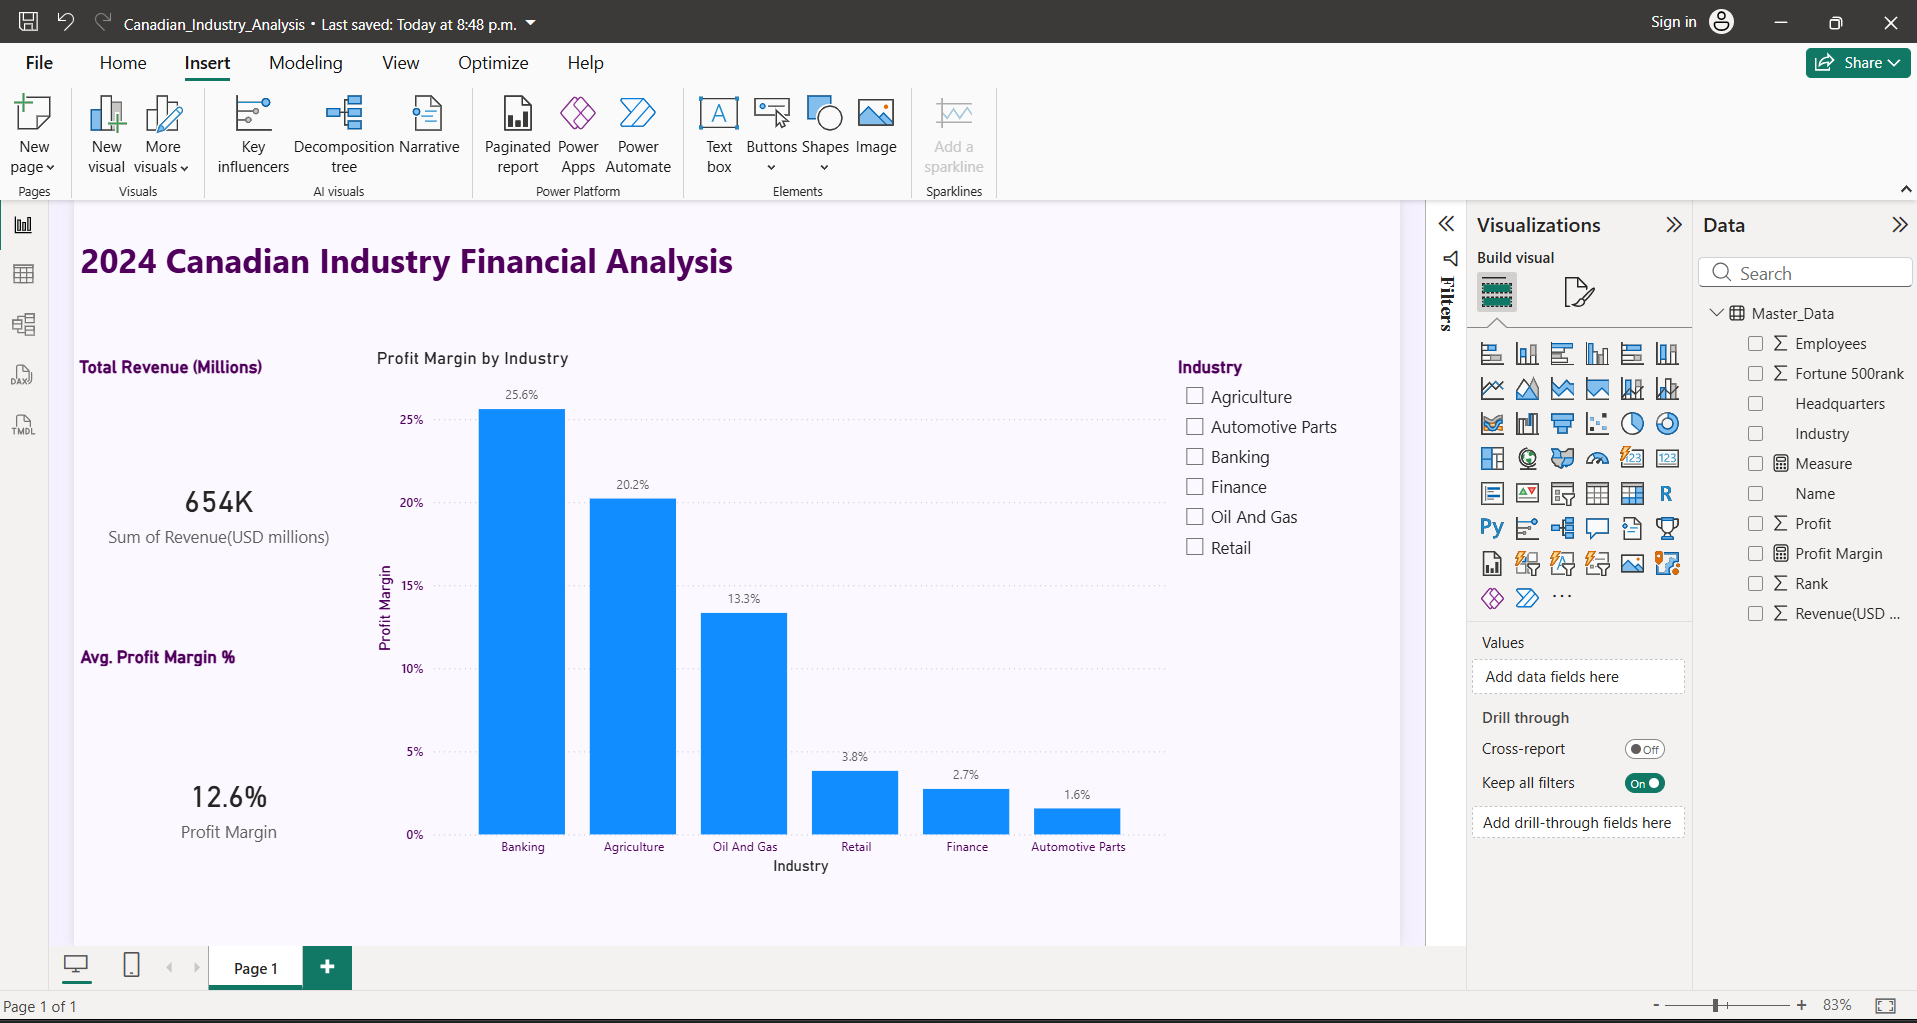

This screenshot's page, from the dashboard's own definition file:
{"tool":"powerbi","page":{"name":"Page 1","canvas":[1280,720],"ordinal":0},"visuals":[{"type":"card","title":"Total Revenue (Millions)","fields":{"Values":["Sum(Master_Data.Revenue(USD millions))"]},"box":[0,150.8,279.9,279.9],"z":1000},{"type":"card","title":"Avg. Profit Margin %","fields":{"Values":["Master_Data.Profit Margin"]},"box":[1.2,430.7,296.8,289.5],"z":2000},{"type":"clusteredColumnChart","fields":{"Category":["Master_Data.Industry"],"Y":["Master_Data.Profit Margin"]},"box":[287.1,142.4,773.3,513.9],"z":3000},{"type":"slicer","title":"Industry","fields":{"Values":["Master_Data.Industry"]},"box":[1060.5,150.8,202.7,339],"z":4000},{"type":"textbox","box":[1.2,31.4,1245,150.8],"z":5000}]}

Visuals, with their boxes on the page's 1280x720 design canvas (x1, y1, x2, y2). These are canvas units, not pixel positions in the 1917x1023 screenshot, which may show the page scaled, cropped or inside an application window:
"Total Revenue (Millions)" card: (0, 151, 280, 431)
"Avg. Profit Margin %" card: (1, 431, 298, 720)
clusteredColumnChart - Master_Data.Industry x Master_Data.Profit Margin: (287, 142, 1060, 656)
"Industry" slicer: (1060, 151, 1263, 490)
textbox: (1, 31, 1246, 182)
